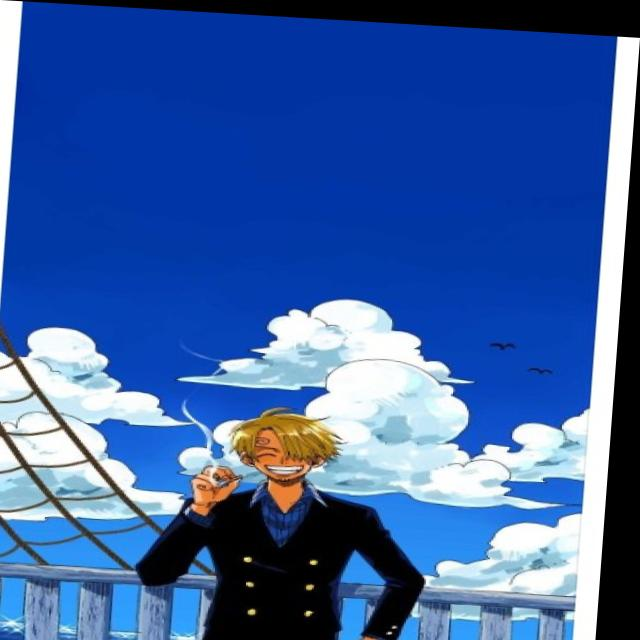Sangdi: (213, 390, 364, 491)
